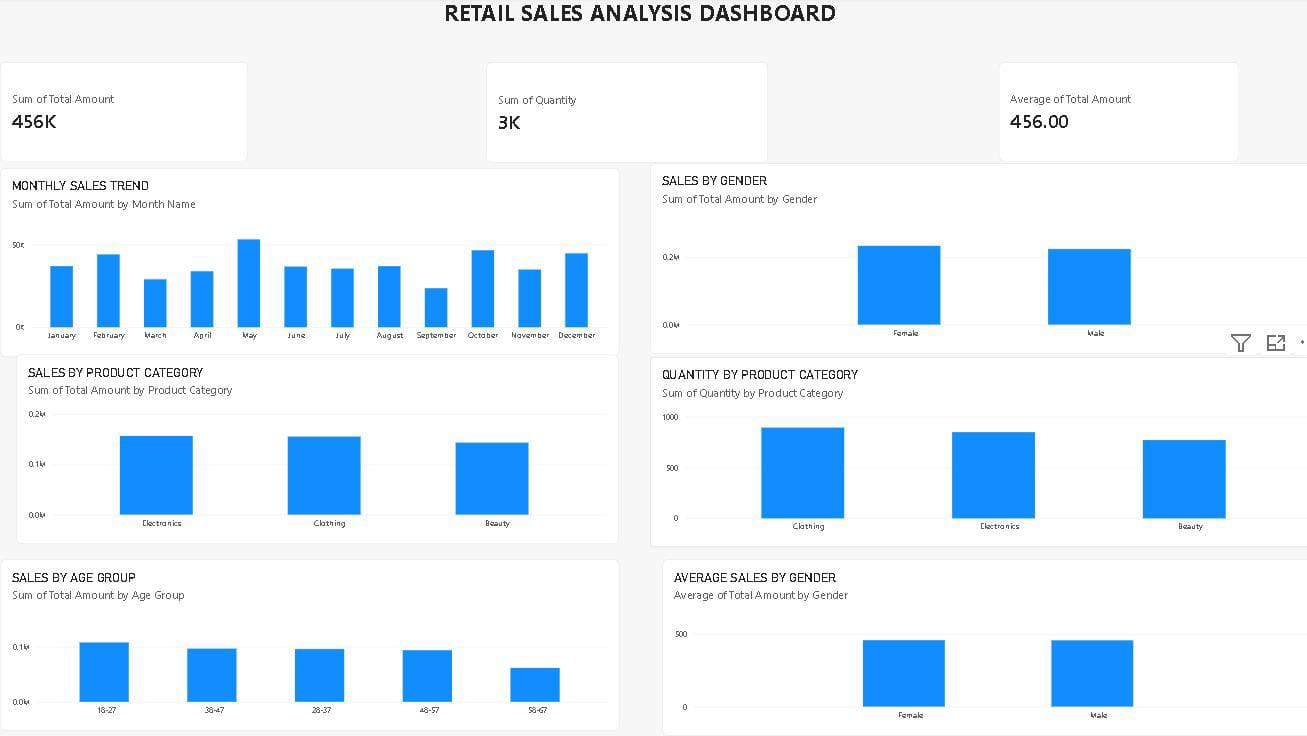

What the dashboard file says about the page in this screenshot:
{"tool":"powerbi","page":{"name":"Page 1","canvas":[1920,1080],"ordinal":0},"visuals":[{"type":"clusteredColumnChart","title":"MONTHLY SALES TREND","fields":{"Category":["retail_sales_cleaned.Month Name"],"Y":["Sum(retail_sales_cleaned.Total Amount)"]},"box":[0,248.3,896.6,272.4],"z":0},{"type":"clusteredColumnChart","title":"SALES BY GENDER","fields":{"Category":["retail_sales_cleaned.Gender"],"Y":["Sum(retail_sales_cleaned.Total Amount)"]},"box":[941.4,241.4,979.3,275.9],"z":1},{"type":"clusteredColumnChart","title":"QUANTITY BY PRODUCT CATEGORY","fields":{"Category":["retail_sales_cleaned.Product Category"],"Y":["Sum(retail_sales_cleaned.Quantity)"]},"box":[941.4,520.7,979.3,275.9],"z":2},{"type":"clusteredColumnChart","title":"AVERAGE SALES BY GENDER","fields":{"Category":["retail_sales_cleaned.Gender"],"Y":["Avg(retail_sales_cleaned.Total Amount)"]},"box":[958.6,813.8,962.1,255.2],"z":3},{"type":"clusteredColumnChart","title":"SALES BY PRODUCT CATEGORY","fields":{"Category":["retail_sales_cleaned.Product Category"],"Y":["Sum(retail_sales_cleaned.Total Amount)"]},"box":[24.1,517.2,872,274],"z":4},{"type":"clusteredColumnChart","title":"SALES BY AGE GROUP","fields":{"Category":["retail_sales_cleaned.Age Group"],"Y":["Sum(retail_sales_cleaned.Total Amount)"]},"box":[0,813.8,896.6,248.3],"z":5},{"type":"textbox","box":[25.5,0,1787.2,204.3],"z":6},{"type":"cardVisual","fields":{"Data":["Sum(retail_sales_cleaned.Total Amount)"]},"box":[0,93.6,359.6,144.7],"z":7},{"type":"cardVisual","fields":{"Data":["Sum(retail_sales_cleaned.Quantity)"]},"box":[704.3,93.6,408.5,146.8],"z":8},{"type":"cardVisual","fields":{"Data":["Avg(retail_sales_cleaned.Total Amount)"]},"box":[1446.8,93.6,348.9,144.7],"z":9}]}

Visuals, with their boxes in screenshot pixels (x1, y1, x2, y2), scaled from the page's 1920x1080 canvas onto the 1307x736 screenshot:
"MONTHLY SALES TREND" clusteredColumnChart: <box>0,169,610,355</box>
"SALES BY GENDER" clusteredColumnChart: <box>641,165,1306,353</box>
"QUANTITY BY PRODUCT CATEGORY" clusteredColumnChart: <box>641,355,1306,543</box>
"AVERAGE SALES BY GENDER" clusteredColumnChart: <box>653,555,1306,729</box>
"SALES BY PRODUCT CATEGORY" clusteredColumnChart: <box>16,352,610,539</box>
"SALES BY AGE GROUP" clusteredColumnChart: <box>0,555,610,724</box>
textbox: <box>17,0,1234,139</box>
cardVisual - Sum(retail_sales_cleaned.Total Amount): <box>0,64,245,162</box>
cardVisual - Sum(retail_sales_cleaned.Quantity): <box>479,64,758,164</box>
cardVisual - Avg(retail_sales_cleaned.Total Amount): <box>985,64,1222,162</box>
